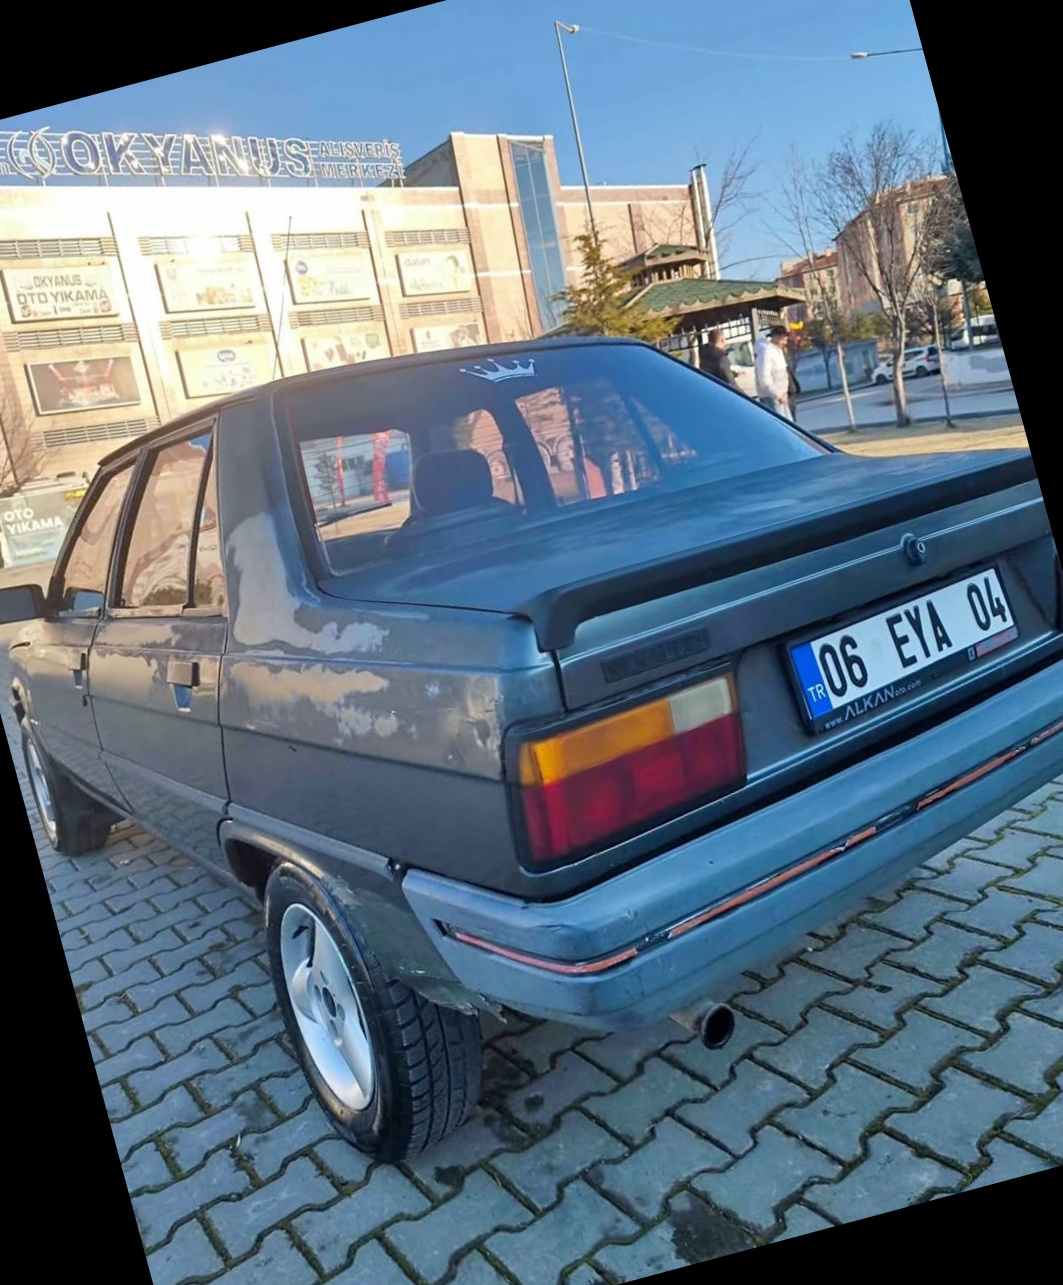plaka: (814, 573, 1033, 718)
